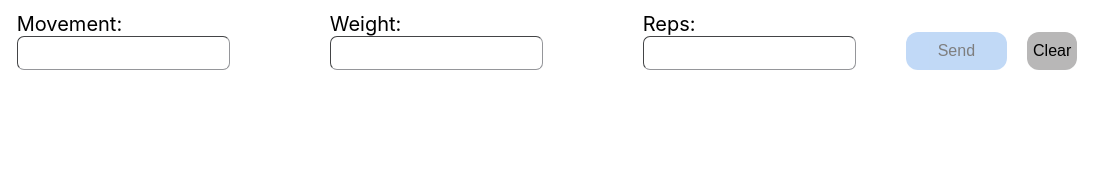
Scenario: finds enabled Send button
Type "test" into the field labelled "Movement:".
click(123, 53); type("test")  # box [17, 36, 230, 70]
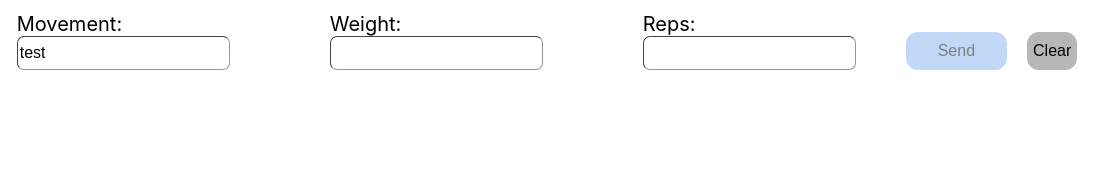
Type "test" into the field labelled "Reps:".
click(749, 53); type("test")  # box [643, 36, 856, 70]
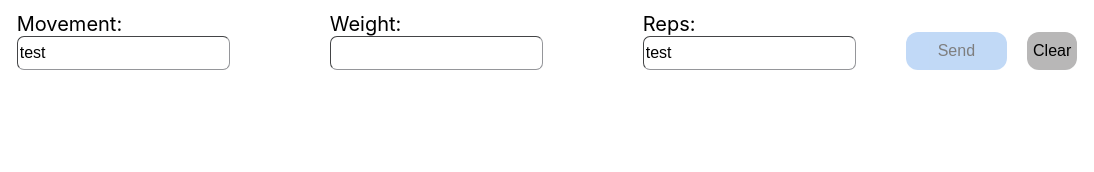
Type "test" into the field labelled "Weight:".
click(436, 53); type("test")  # box [330, 36, 543, 70]
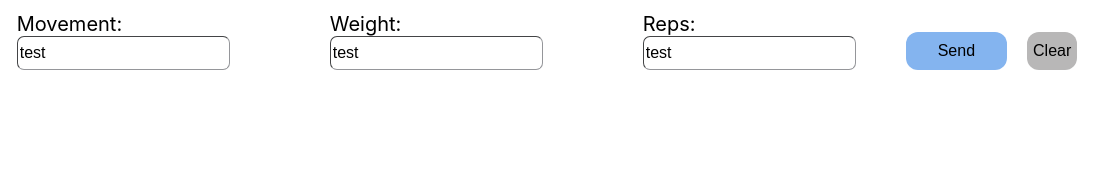
Now the button "Send" is enabled, box [906, 32, 1007, 70]
